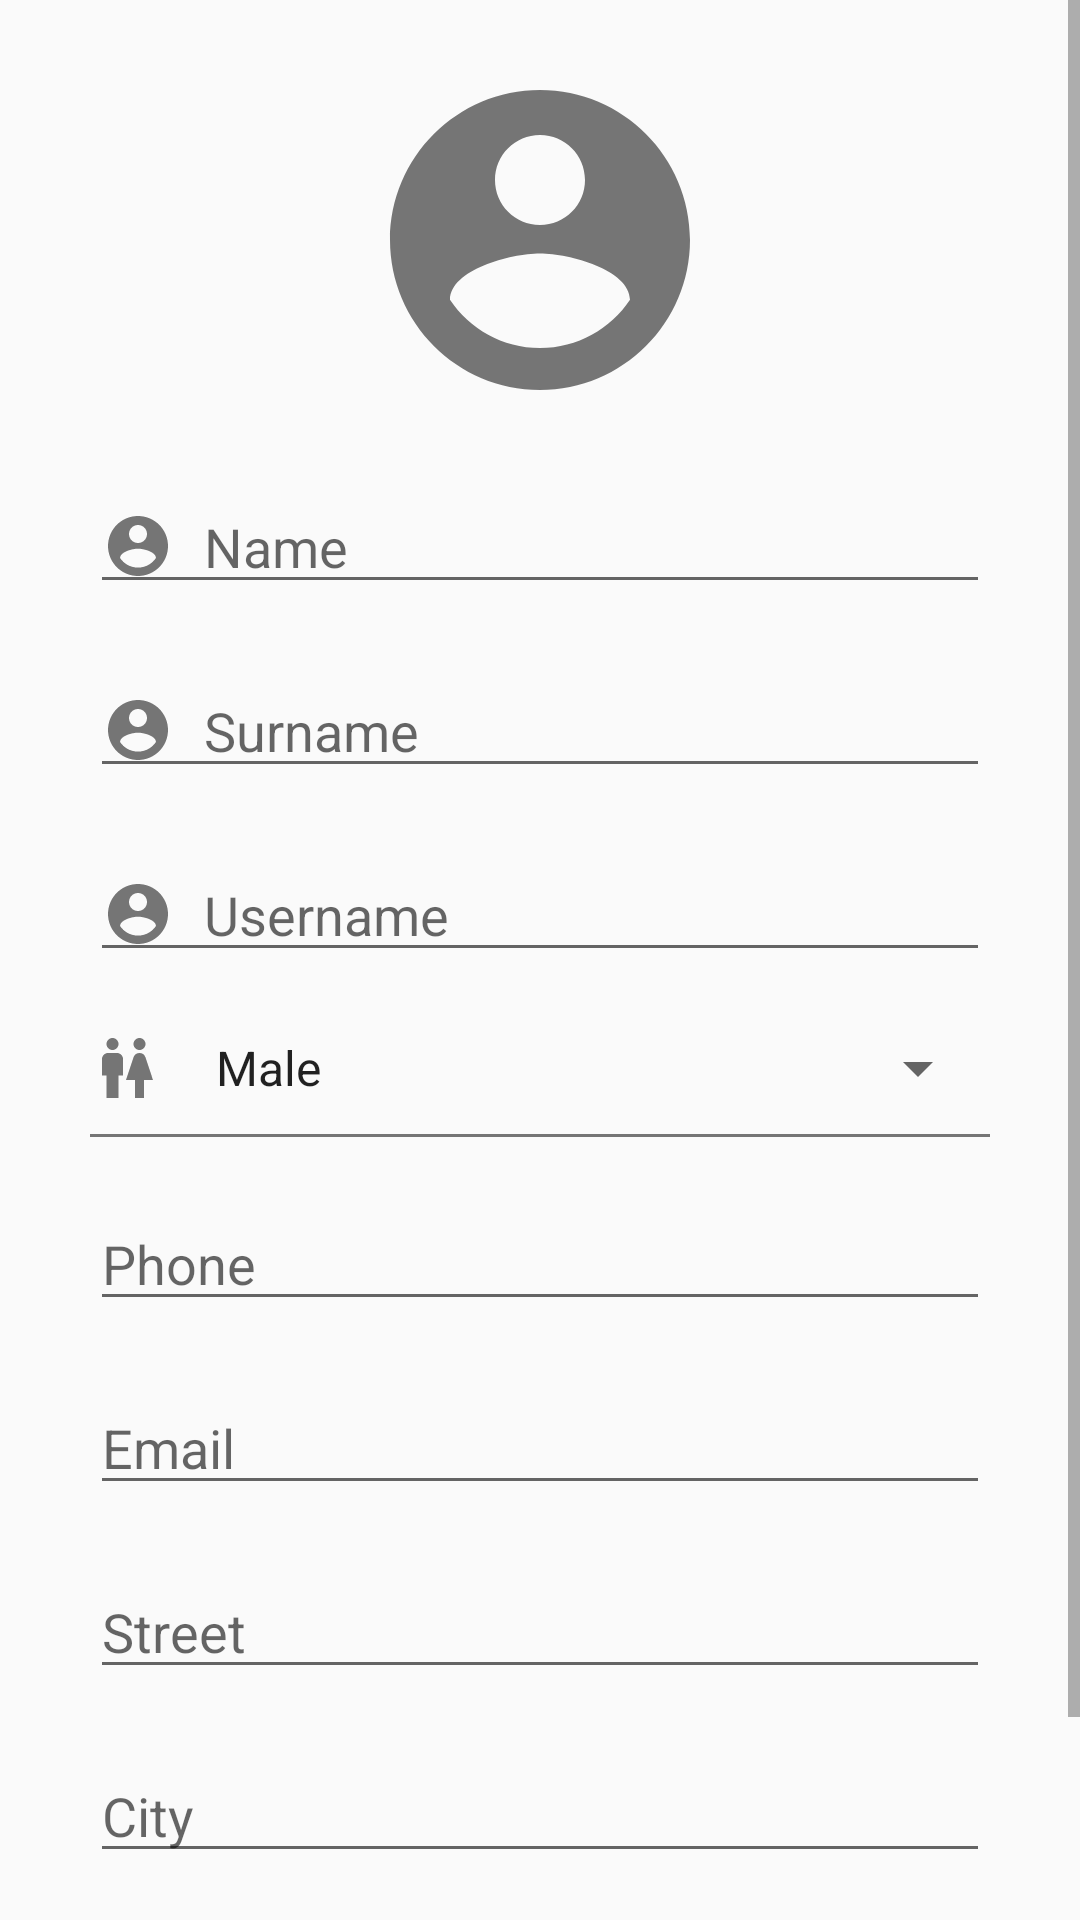

Where icons sit on this 1080x1920 app screen, as box=[x1, y1, x2, y2]:
gender: box=[102, 1038, 153, 1098]
